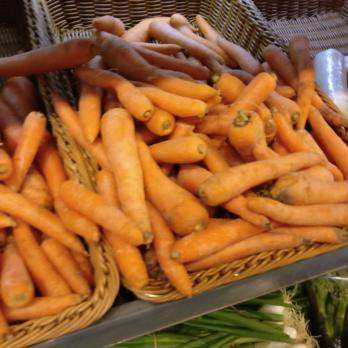Carrot: (82, 13, 215, 287), (219, 41, 348, 249), (0, 35, 76, 316)
